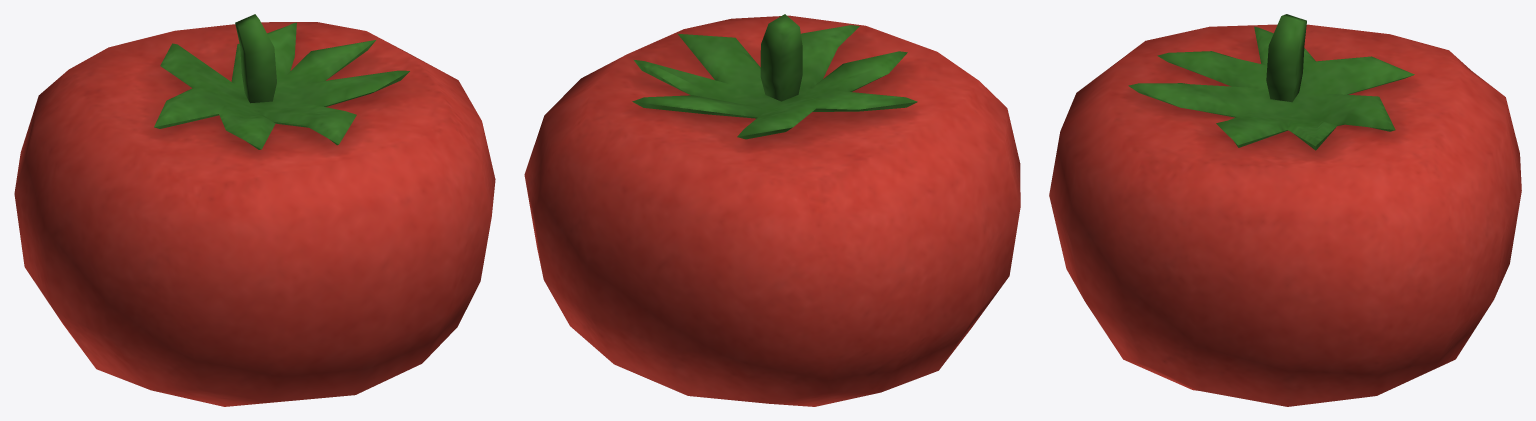
Rendered from SM_Tomato_1.glb.
3 renders of one model, left to right at view 1: azimuth 30°, elevation 25°; view 2: azimuth 150°, elevation 25°; view 3: azimuth 270°, elevation 25°, orthographic.
Visible parts, largest first — view 1: SM_Tomato_1; view 2: SM_Tomato_1; view 3: SM_Tomato_1.
Boxes of the visible parts, bbox=[...] form: SM_Tomato_1: bbox=[14, 14, 495, 406]; SM_Tomato_1: bbox=[524, 14, 1020, 406]; SM_Tomato_1: bbox=[1049, 14, 1521, 406].
Size of the model in its own units: 0.1908 by 0.1465 by 0.1865.
1 material, 1 textured.
